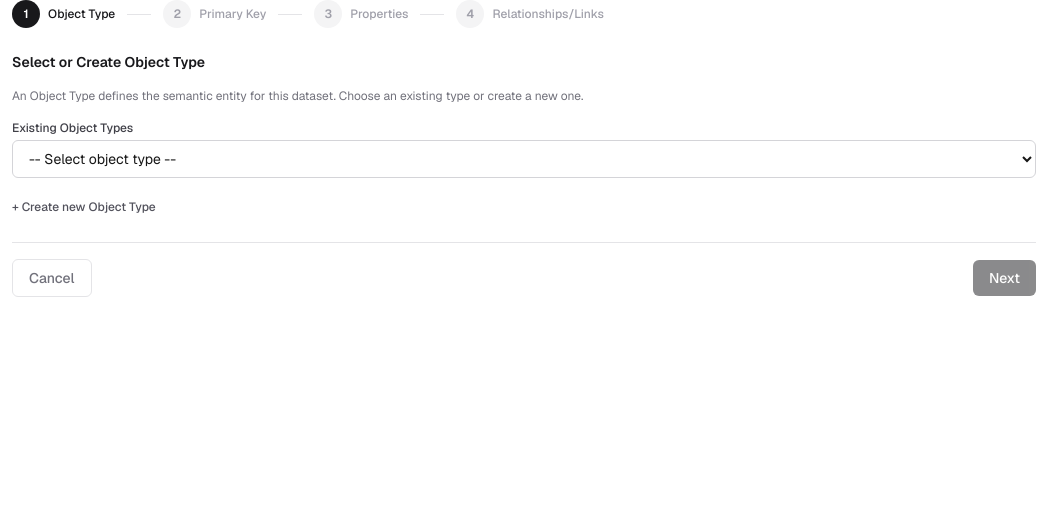
Scenario: EntityMappingWizard › Step 2: Primary Key › enables Next after selecting a PK
Expected: the heading "Select or Create Object Type" is shown, [12,53,205,71]
Select "Employee (employee)" in the dropdown: (524,159) [12,140,1036,178]
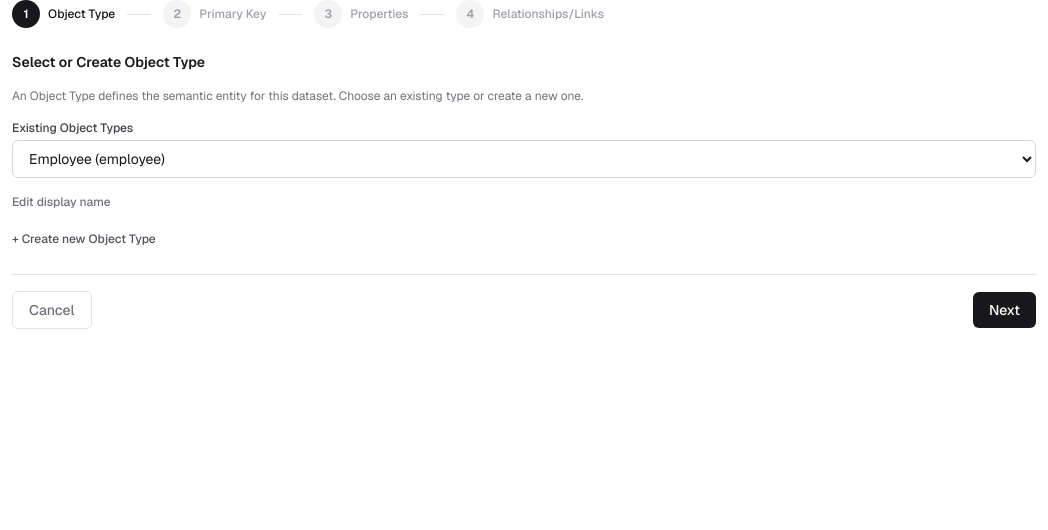
Click the button "Next": (1004,310) [973,292,1036,328]
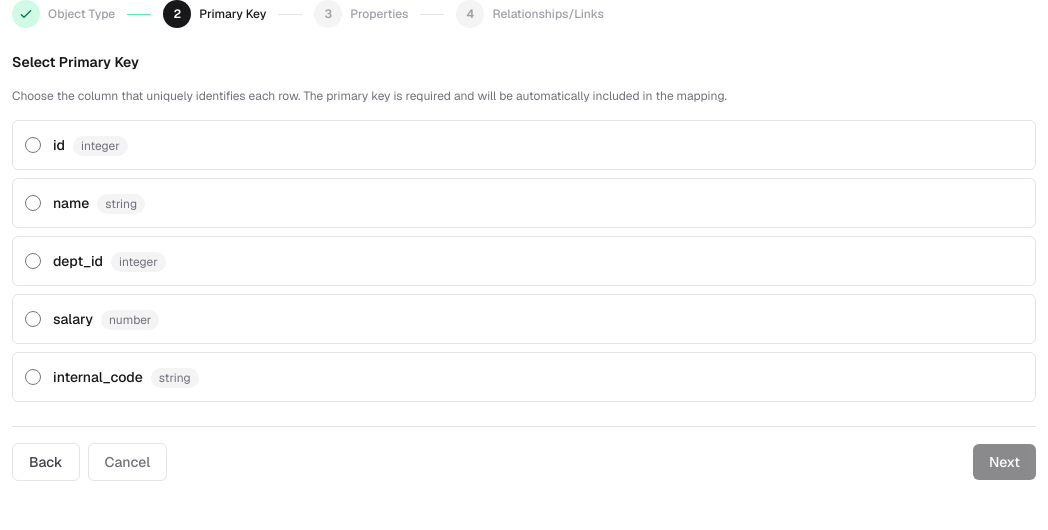
Now the heading "Select Primary Key" is shown, box [12,53,139,71]
Click the radio button labelled "id integer": (33,145) [25,137,41,153]
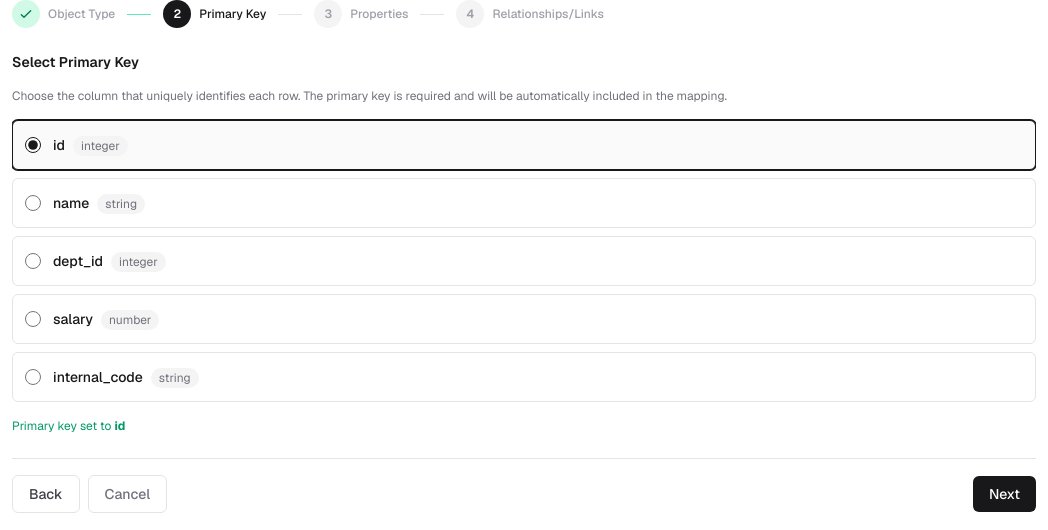
Now the button "Next" is enabled, box [973,476,1036,512]
